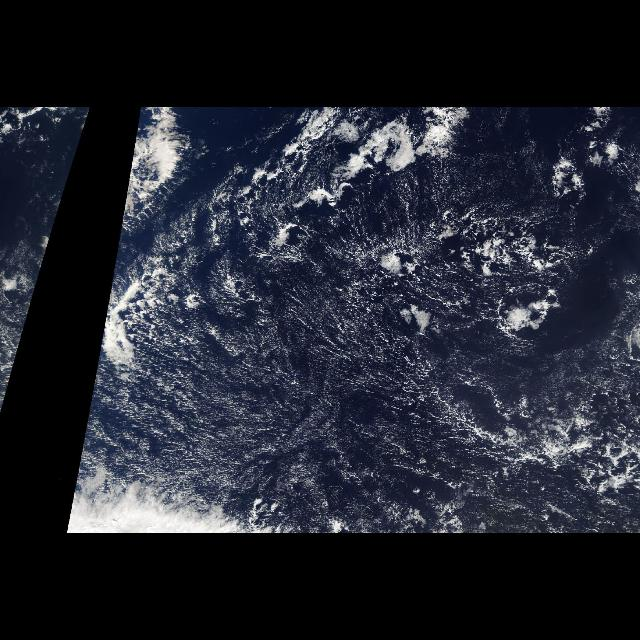Fish: (112, 109, 248, 275), (11, 109, 93, 275)
Gravel: (429, 202, 615, 362)
Sugar: (104, 197, 506, 533)
